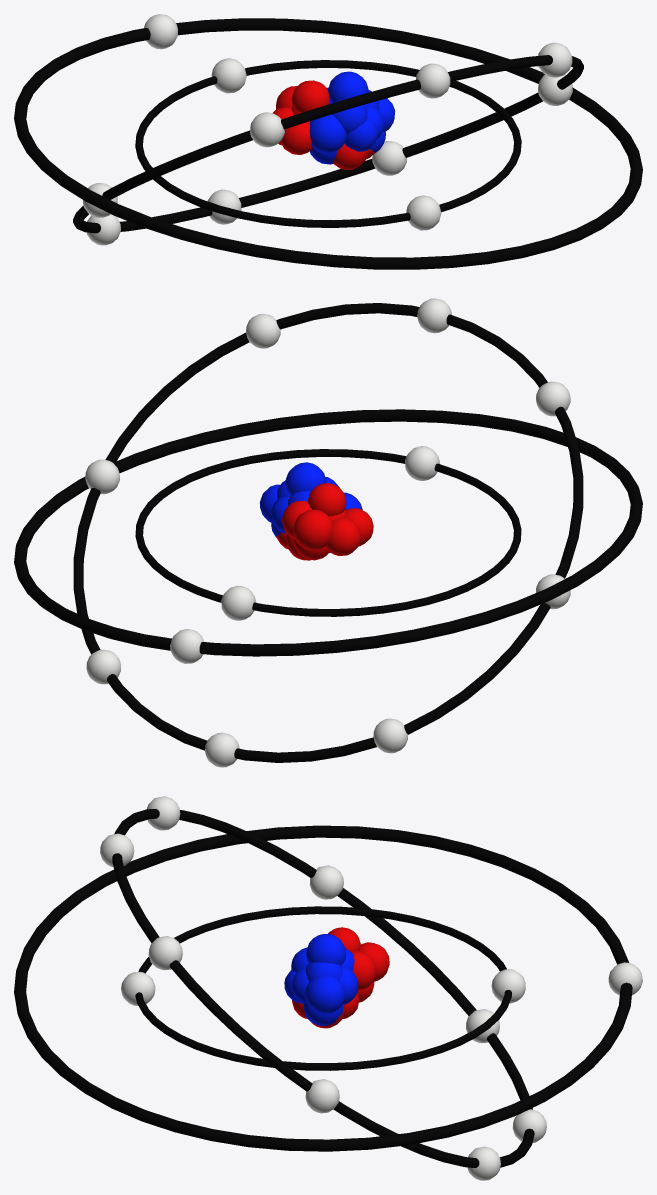
Rendered from 11 Sodio.fbx.
The picture shows the model from 3 angles, top to bottom: view 1: azimuth 30°, elevation 25°; view 2: azimuth 150°, elevation 25°; view 3: azimuth 270°, elevation 25°; orthographic projection. The views are drawn at different scales.
Parts seen in each view (by area): view 1: Orbita.003, Orbita.002, Orbita.001, Neutron.004, Neutron.001, Electron.009, Electron, Sphere.003, Electron.001, Electron.002, Electron.005, Electron.004 (+9 smaller); view 2: Orbita.003, Orbita.002, Orbita.001, Neutron.002, Neutron.004, Sphere.001, Sphere.003, Electron.006, Electron.001, Electron.010, Electron, Electron.008 (+6 smaller); view 3: Orbita.003, Orbita.002, Orbita.001, Neutron.003, Neutron.004, Neutron.002, Electron.008, Electron.007, Electron.010, Electron, Electron.001, Electron.004 (+5 smaller).
Part boxes in pixels (<box>): Orbita.003: <box>14,18,642,269</box>; Orbita.002: <box>73,55,583,233</box>; Orbita.001: <box>135,60,521,227</box>; Neutron.004: <box>327,71,379,133</box>; Neutron.001: <box>309,114,346,164</box>; Electron.009: <box>250,112,284,147</box>; Electron: <box>406,195,441,230</box>; Sphere.003: <box>291,80,329,112</box>; Electron.001: <box>211,58,246,93</box>; Electron.002: <box>416,63,450,98</box>; Electron.005: <box>144,14,177,49</box>; Electron.004: <box>372,141,406,175</box>; Orbita.003: <box>14,409,642,656</box>; Orbita.002: <box>73,303,583,762</box>; Orbita.001: <box>135,449,521,616</box>; Neutron.002: <box>282,501,346,560</box>; Neutron.004: <box>277,462,339,505</box>; Sphere.001: <box>325,517,360,555</box>; Sphere.003: <box>307,483,346,516</box>; Electron.006: <box>373,718,407,753</box>; Electron.001: <box>221,585,256,620</box>; Electron.010: <box>246,313,280,348</box>; Electron: <box>405,446,439,480</box>; Electron.008: <box>85,459,119,494</box>; Orbita.003: <box>14,825,632,1151</box>; Orbita.002: <box>112,809,534,1167</box>; Orbita.001: <box>135,906,511,1070</box>; Neutron.003: <box>291,967,358,1025</box>; Neutron.004: <box>291,933,354,981</box>; Neutron.002: <box>352,942,389,1002</box>; Electron.008: <box>305,1079,339,1113</box>; Electron.007: <box>309,865,343,899</box>; Electron.010: <box>148,936,182,970</box>; Electron: <box>121,972,155,1005</box>; Electron.001: <box>491,969,525,1003</box>; Electron.004: <box>467,1146,500,1180</box>.
Size of the model in its own units: 12.36 by 12.09 by 6.63.
